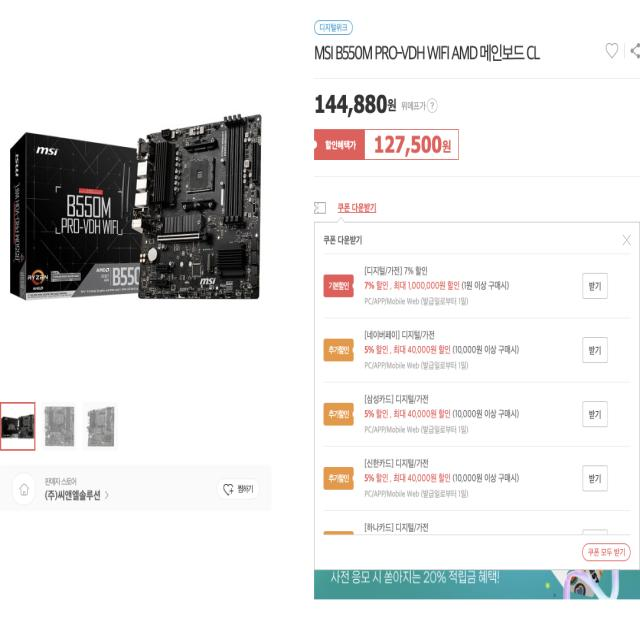product_discount_price: (366, 131, 452, 157)
product_name: (312, 40, 587, 86)
product_original_price: (310, 88, 396, 120)
